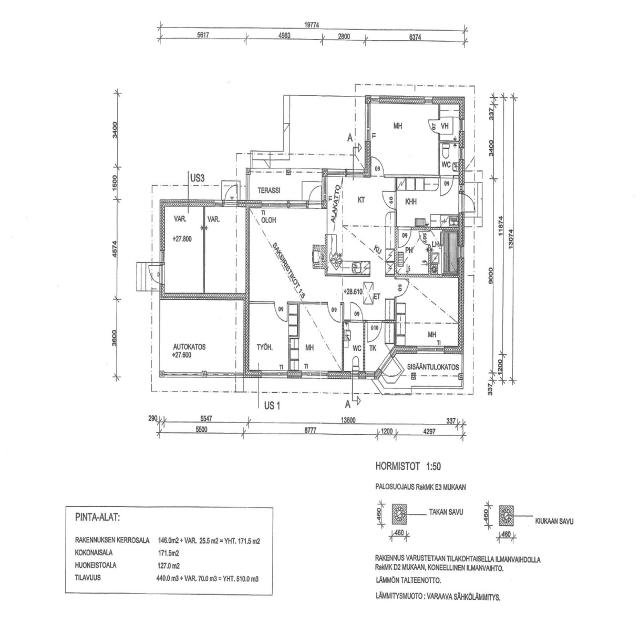door: (306, 183, 323, 206), (366, 321, 382, 344), (393, 275, 409, 298), (223, 183, 238, 206), (381, 189, 397, 210), (327, 300, 342, 322), (370, 155, 385, 177), (349, 300, 364, 322), (148, 263, 162, 286), (352, 158, 368, 178), (461, 193, 476, 214), (397, 226, 412, 247), (274, 301, 288, 322), (254, 155, 270, 173), (440, 175, 453, 197), (426, 117, 440, 134), (281, 122, 292, 140)
window: (110, 295, 120, 334), (414, 345, 446, 356), (364, 101, 372, 141), (260, 199, 289, 210), (259, 368, 283, 379), (286, 200, 309, 210), (303, 370, 326, 380), (325, 168, 346, 178), (350, 168, 366, 178)
zone: (248, 205, 324, 302), (157, 298, 243, 376), (329, 191, 395, 276), (369, 104, 440, 177), (396, 275, 460, 350), (203, 204, 248, 297), (162, 204, 205, 297), (289, 302, 343, 375), (246, 303, 290, 374), (396, 178, 458, 228), (337, 178, 394, 227), (397, 228, 433, 276), (430, 228, 458, 274), (343, 320, 365, 372), (439, 104, 461, 142), (439, 142, 461, 176)
